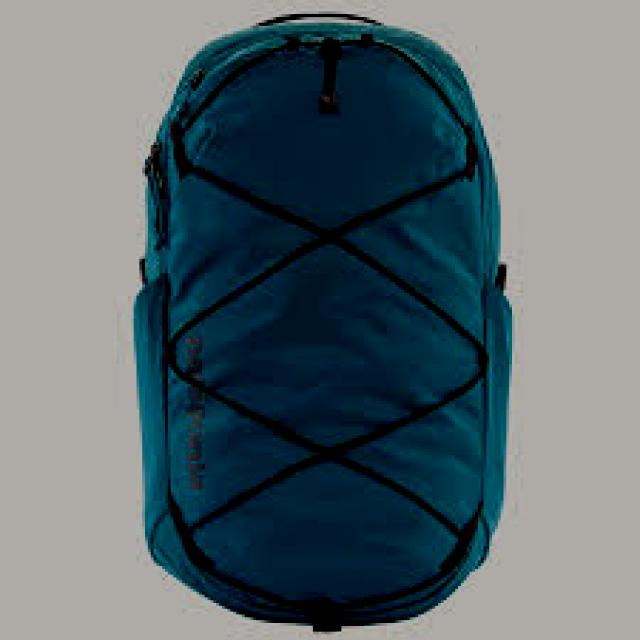backpack: (129, 10, 513, 633)
